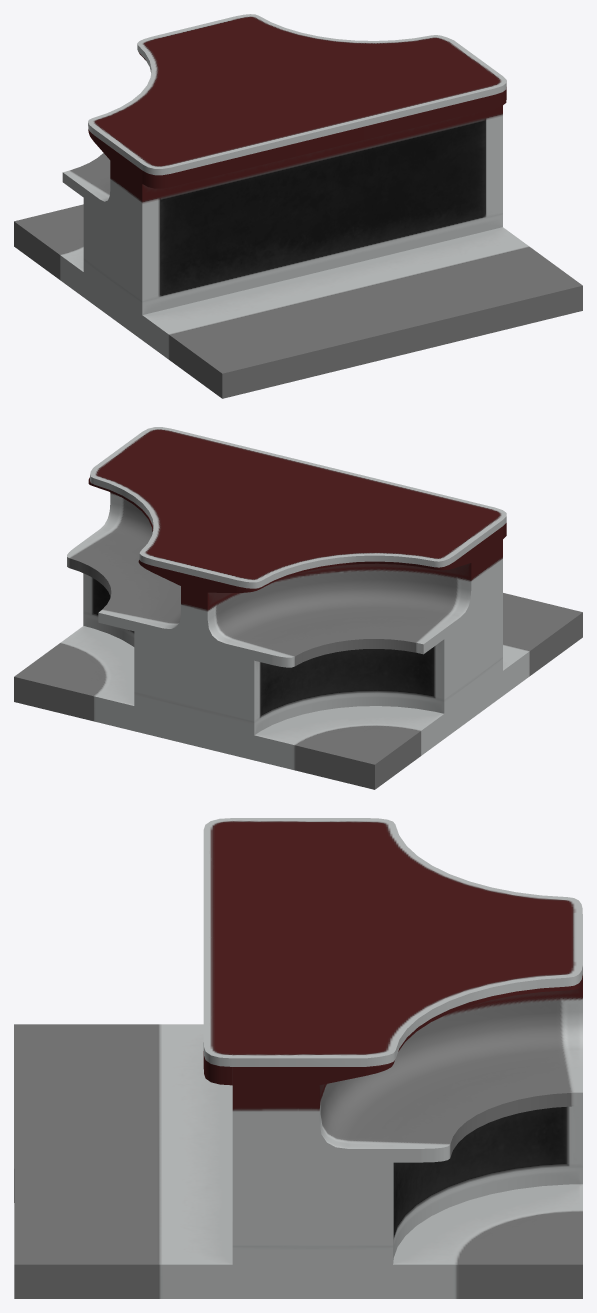
File: Room_Floor_TType_A_B.FBX
The picture shows the model from 3 angles, top to bottom: view 1: azimuth 30°, elevation 25°; view 2: azimuth 150°, elevation 25°; view 3: azimuth 270°, elevation 25°; orthographic projection. The views are drawn at different scales.
Parts seen in each view (by area): view 1: Room_Floor_TType_A_B; view 2: Room_Floor_TType_A_B; view 3: Room_Floor_TType_A_B.
Boxes of the visible parts, bbox=[...] form: Room_Floor_TType_A_B: bbox=[14, 14, 582, 398]; Room_Floor_TType_A_B: bbox=[14, 427, 582, 789]; Room_Floor_TType_A_B: bbox=[14, 818, 582, 1298].
Size of the model in its own units: 300 by 140 by 300.
Materials: 1 (1 with a texture image).
